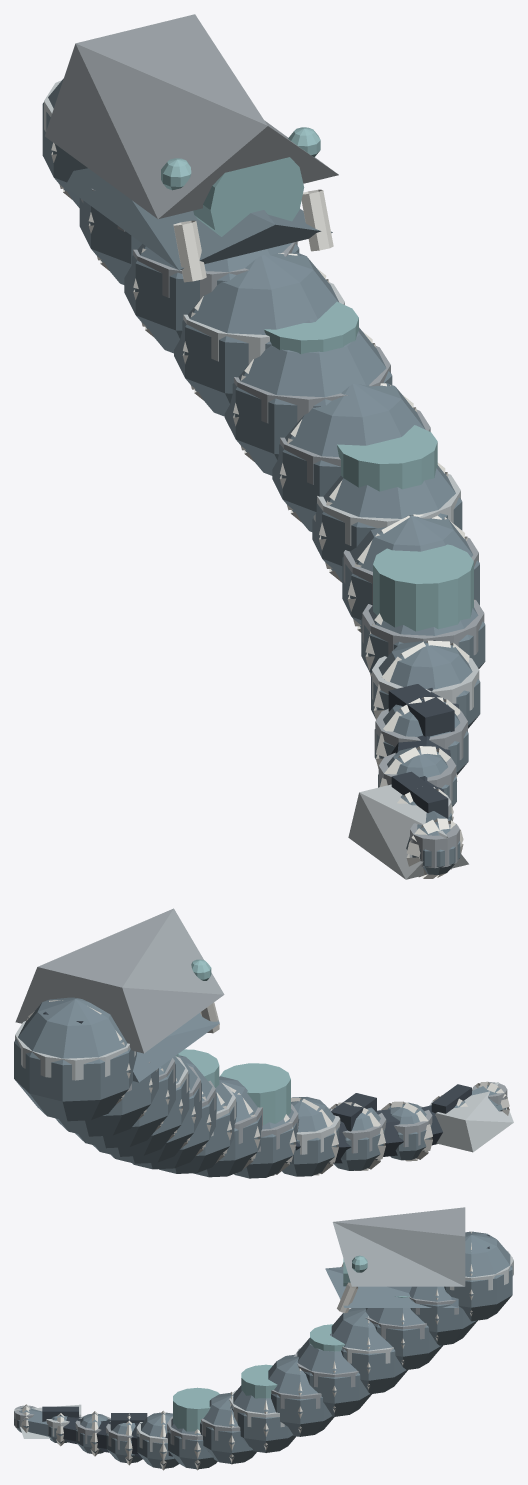
The model's file is Venom_Coil_Leviathan.obj.
The picture shows the model from 3 angles, top to bottom: view 1: azimuth 30°, elevation 25°; view 2: azimuth 150°, elevation 25°; view 3: azimuth 270°, elevation 25°; orthographic projection. The views are drawn at different scales.
Visible parts, largest first — view 1: Venom_Coil_Leviathan; view 2: Venom_Coil_Leviathan; view 3: Venom_Coil_Leviathan.
Boxes of the visible parts, left/top/right/bottom form: Venom_Coil_Leviathan: left=42, top=14, right=485, bottom=879; Venom_Coil_Leviathan: left=14, top=908, right=513, bottom=1178; Venom_Coil_Leviathan: left=14, top=1207, right=513, bottom=1470.
Size of the model in its own units: 1.95 by 3.22 by 5.73.
